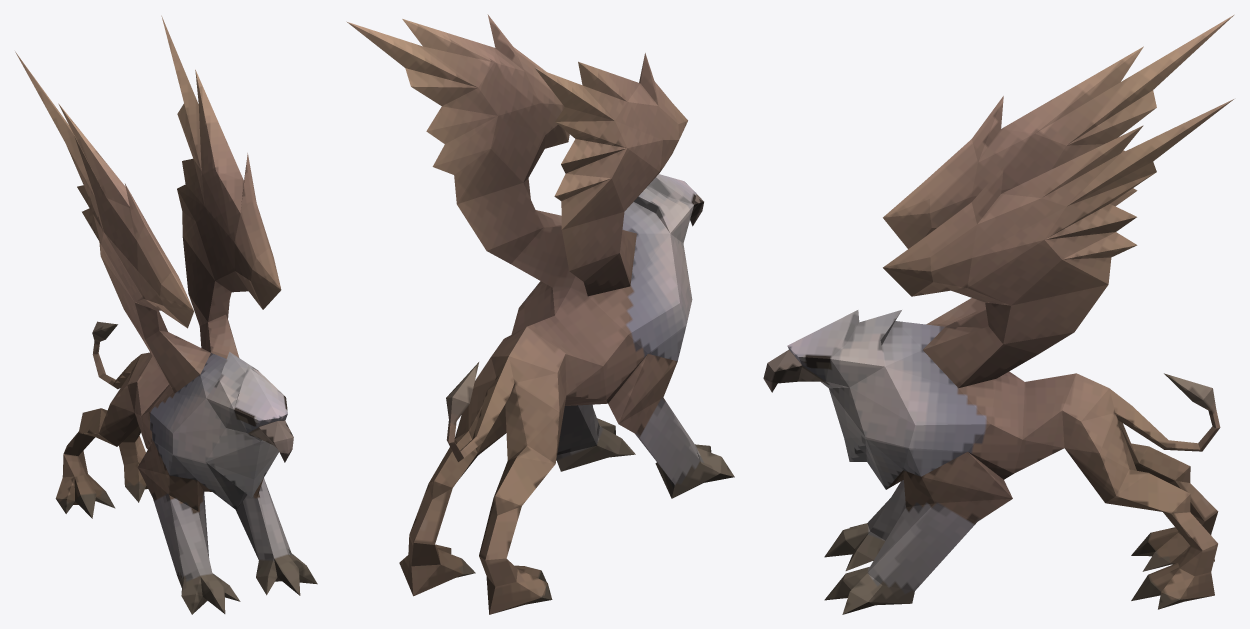
Rendered from griffin.glb.
3 renders of one model, left to right at view 1: azimuth 30°, elevation 25°; view 2: azimuth 150°, elevation 25°; view 3: azimuth 270°, elevation 25°, orthographic. The views are drawn at different scales.
Parts seen in each view (by area): view 1: Plane; view 2: Plane; view 3: Plane.
Part boxes in pixels (x1,y1,x2,y2): Plane: (15,15,317,614); Plane: (346,14,734,614); Plane: (763,14,1234,614).
Size of the model in its own units: 1.34 by 3.89 by 3.18.
Materials: 1 (1 with a texture image).
